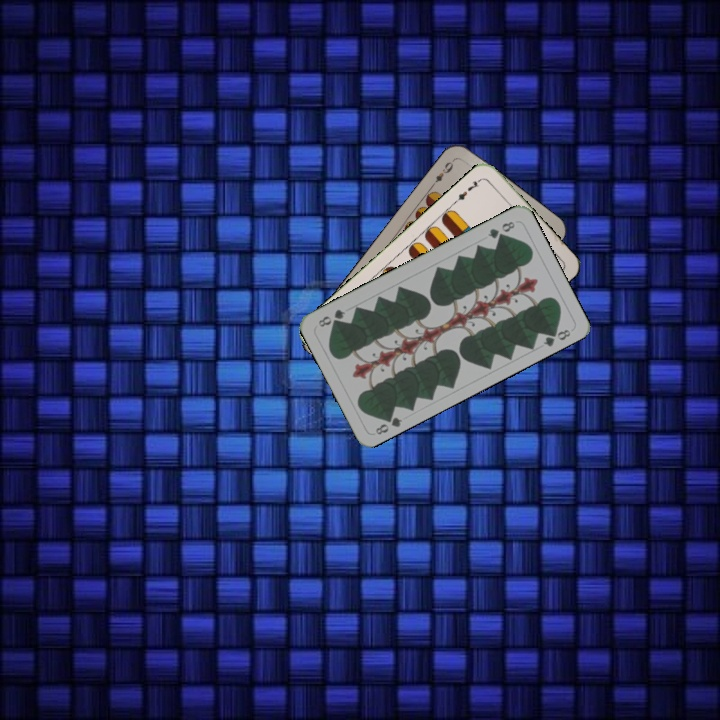E7: (451, 174, 484, 205)
E9: (427, 155, 457, 189)
G8: (371, 409, 405, 437), (483, 217, 518, 241)
